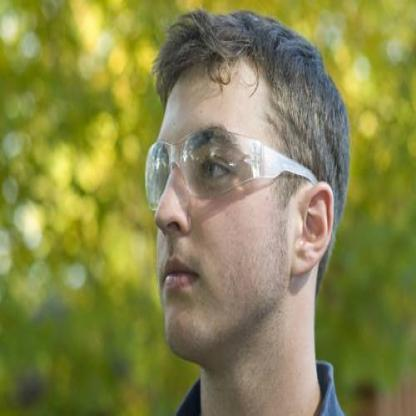oculos: (146, 129, 279, 210)
